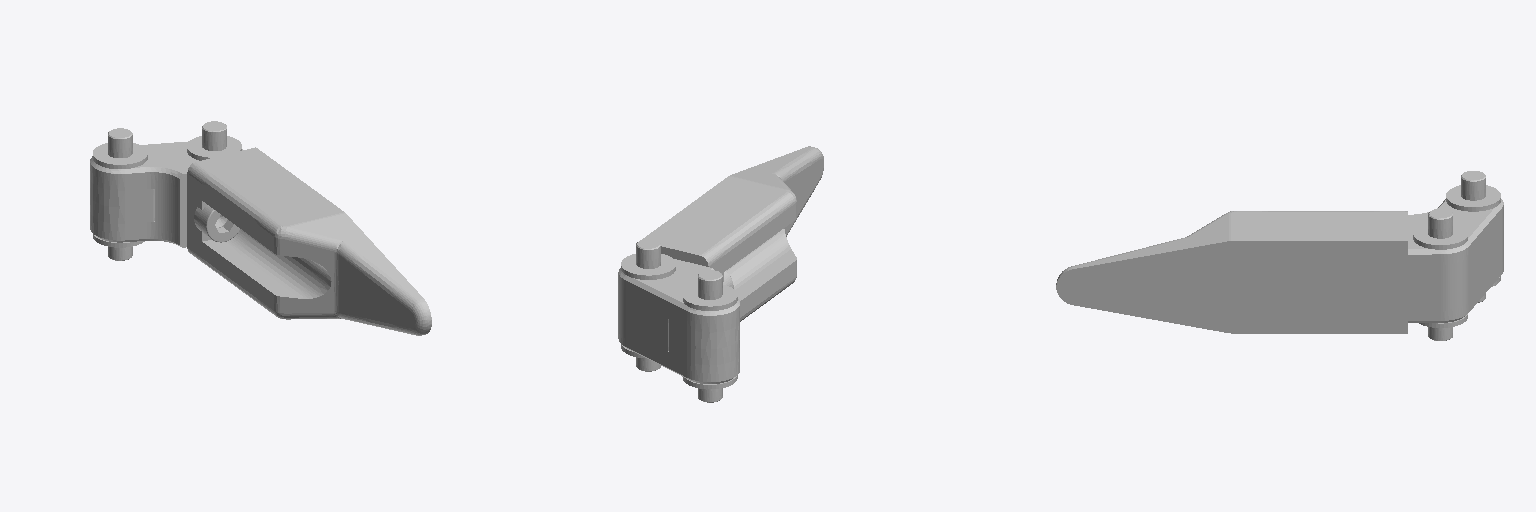
Rendered from right_finger_tip.obj.
The picture shows the model from 3 angles: view 1: azimuth 30°, elevation 25°; view 2: azimuth 150°, elevation 25°; view 3: azimuth 270°, elevation 25°; orthographic projection.
Parts seen in each view (by area): view 1: 1.001, 2.001; view 2: 1.001, 2.001; view 3: 1.001, 2.001.
Boxes of the visible parts, <box> form: 1.001: <box>187,147,431,335</box>; 2.001: <box>90,121,242,260</box>; 1.001: <box>642,146,823,321</box>; 2.001: <box>618,239,739,402</box>; 1.001: <box>1056,211,1407,333</box>; 2.001: <box>1408,171,1503,340</box>.
Size of the model in its own units: 0.0299 by 0.027 by 0.089.